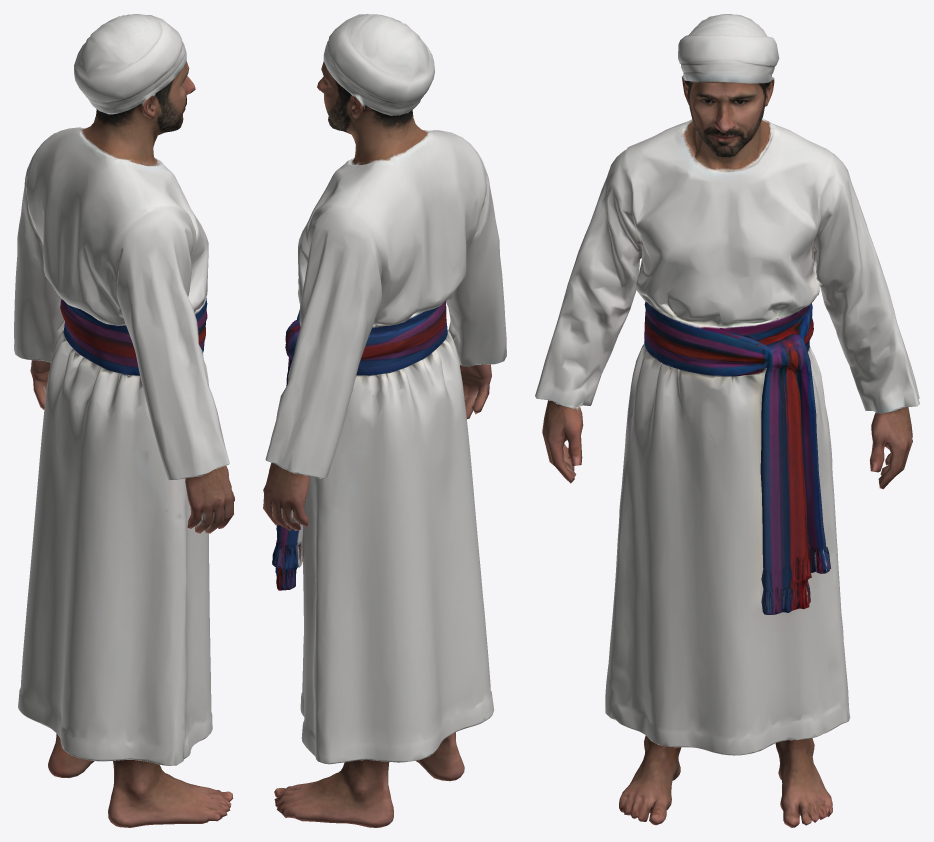
The model's file is priest.glb.
3 views of the same model, side by side, from view 1: azimuth 30°, elevation 25°; view 2: azimuth 150°, elevation 25°; view 3: azimuth 270°, elevation 25° (orthographic).
Visible parts, largest first — view 1: tripo_node_7bef17ff-1955-4166-8e7f-3b369a61d756; view 2: tripo_node_7bef17ff-1955-4166-8e7f-3b369a61d756; view 3: tripo_node_7bef17ff-1955-4166-8e7f-3b369a61d756.
Boxes of the visible parts, box(x1,y1,x2,y2) form: tripo_node_7bef17ff-1955-4166-8e7f-3b369a61d756: box(14, 14, 234, 827); tripo_node_7bef17ff-1955-4166-8e7f-3b369a61d756: box(263, 14, 506, 827); tripo_node_7bef17ff-1955-4166-8e7f-3b369a61d756: box(535, 14, 919, 827).
Size of the model in its own units: 0.2219 by 0.9795 by 0.4379.
1 material, 1 textured.
